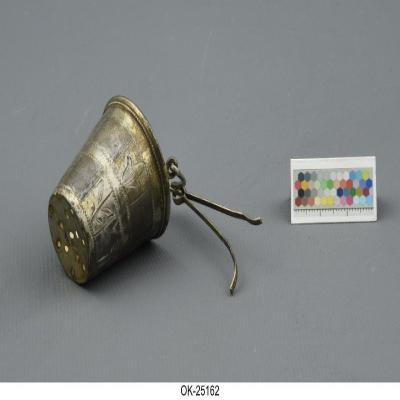dpi: (48, 95, 264, 293)
